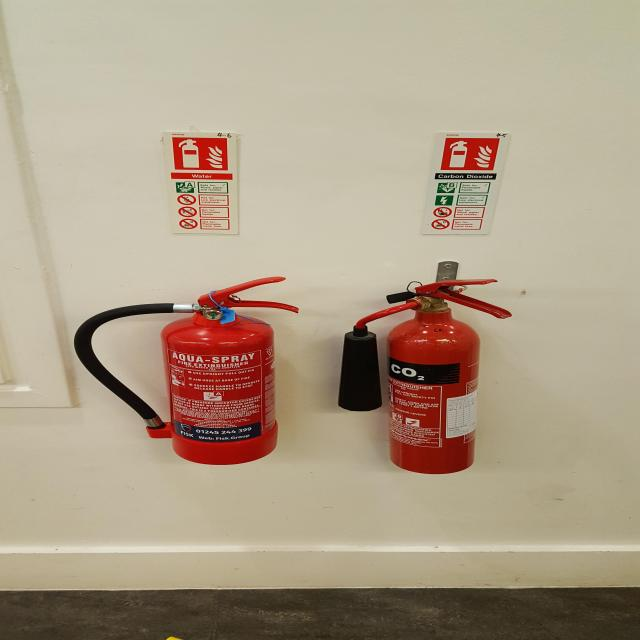fire_extinguisher: (68, 274, 304, 467), (334, 276, 517, 476)
